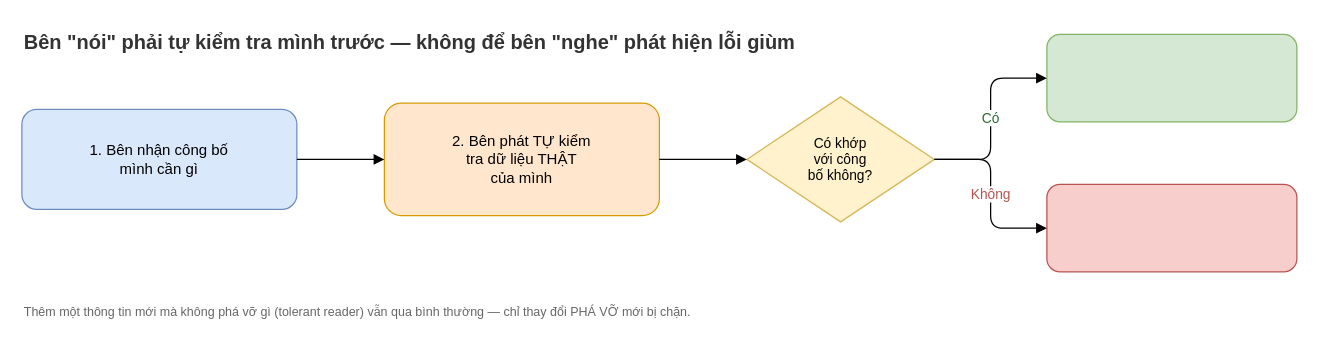
The diagram is 1319 pixels wide and 355 high, and some of its shapes have lost their labels. The shapes that lost their labels are listed below. From the top down, each one's box as (x1, y1, x2, y2) in pixels, then its label:
(1046, 33, 1297, 122): 3a. Qua, có thể phát hành
(1046, 183, 1297, 272): 3b. Chặn NGAY tại build của bên phát
